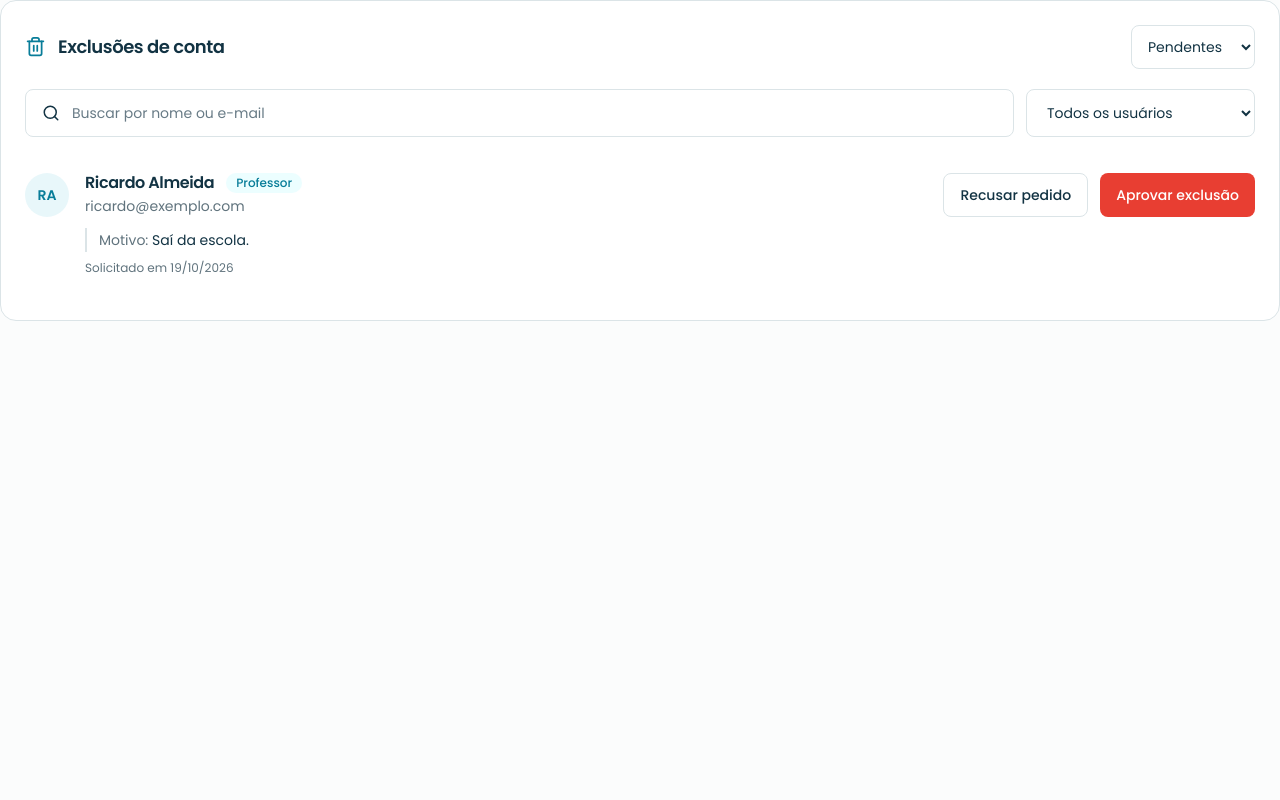
Test: excluir uma conta exige confirmação e atualiza a fila
Click the button named "Aprovar exclusão de Ricardo Almeida". click: click(1178, 195)
box: 1100,173 -> 1255,217
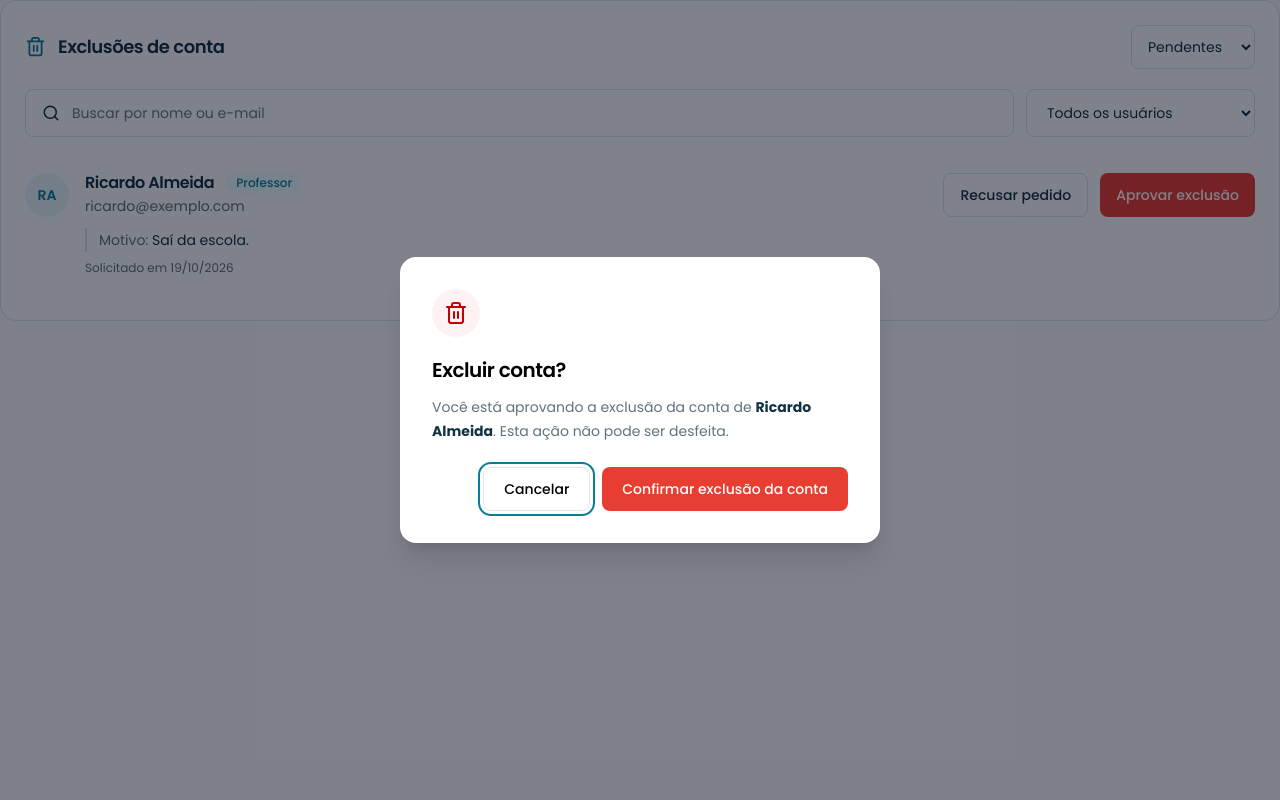
Now the text "Esta ação não pode ser desfeita" is shown, box 493,421 -> 729,441
Click the button "Confirmar exclusão da conta". click: click(725, 489)
box: 602,467 -> 848,511
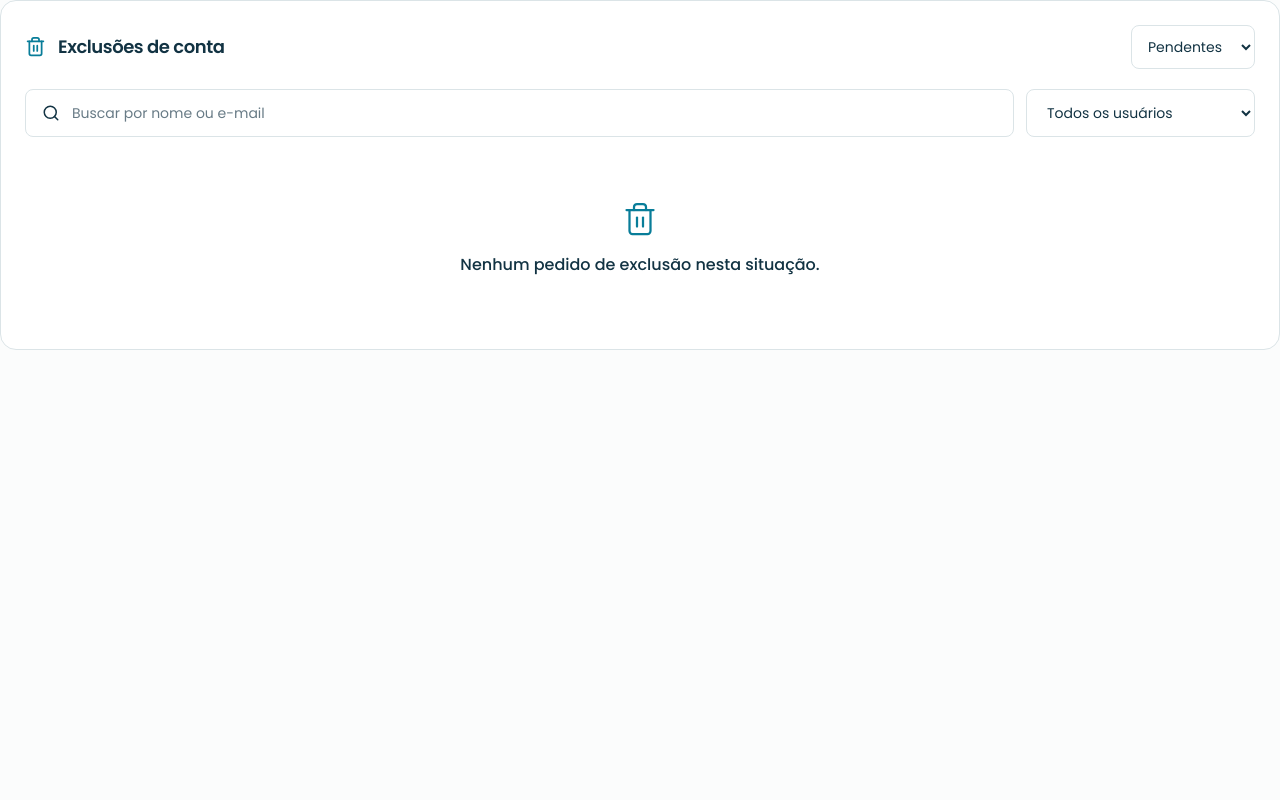
Now the text "Nenhum pedido de exclusão nesta situação." is shown, box 460,253 -> 820,277
